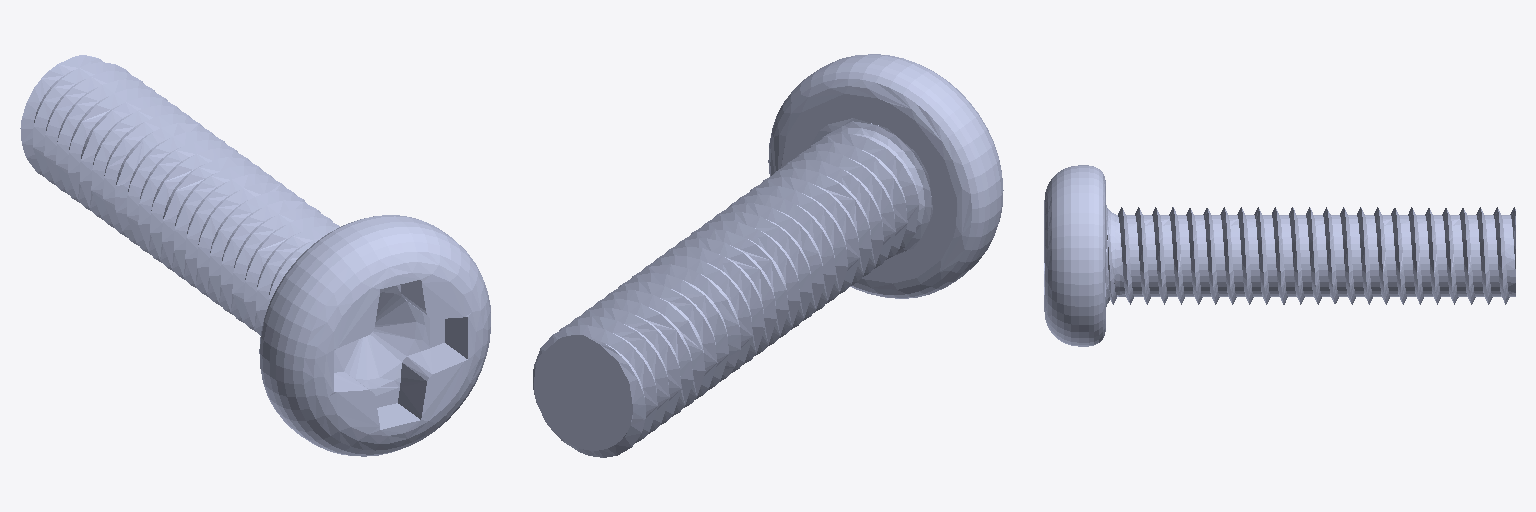
The robot description file, URDF, robot "M3x12Screw":
<robot
  name="M3x12Screw">
  <link
    name="M3x12Screw">
    <inertial>
      <origin
        xyz="0 0 0"
        rpy="0 0 0" />
      <mass
        value="0" />
      <inertia
        ixx="0"
        ixy="0"
        ixz="0"
        iyy="0"
        iyz="0"
        izz="0" />
    </inertial>
    <visual>
      <origin
        xyz="0 0 0"
        rpy="1.5707963267949 0 0" />
      <geometry>
        <mesh
          filename="package://M3x12Screw/meshes/M3x12Screw.STL" />
      </geometry>
      <material
        name="">
        <color
          rgba="0.79216 0.81961 0.93333 1" />
      </material>
    </visual>
    <collision>
      <origin
        xyz="0 0 0"
        rpy="1.5707963267949 0 0" />
      <geometry>
        <mesh
          filename="package://M3x12Screw/meshes/M3x12Screw.STL" />
      </geometry>
    </collision>
  </link>
</robot>

--- Render facts (derived) ---
3 views of the same robot in one strip: view 1: azimuth 30°, elevation 25°; view 2: azimuth 150°, elevation 25°; view 3: azimuth 270°, elevation 25° (orthographic).
Robot: M3x12Screw — 1 links, 0 joints (none); root link M3x12Screw; default pose: every joint at zero.
Links seen in each view (by area): view 1: M3x12Screw; view 2: M3x12Screw; view 3: M3x12Screw.
Boxes of the visible links, x1,y1,x2,y2 form: M3x12Screw: (20,55,490,456); M3x12Screw: (533,54,1003,457); M3x12Screw: (1044,165,1515,346).
Bounding box of the posed robot: 0.0053 × 0.0138 × 0.0053 m (x, y, z).
1 mesh visuals loaded from 1 distinct referenced files (1 binary STL).